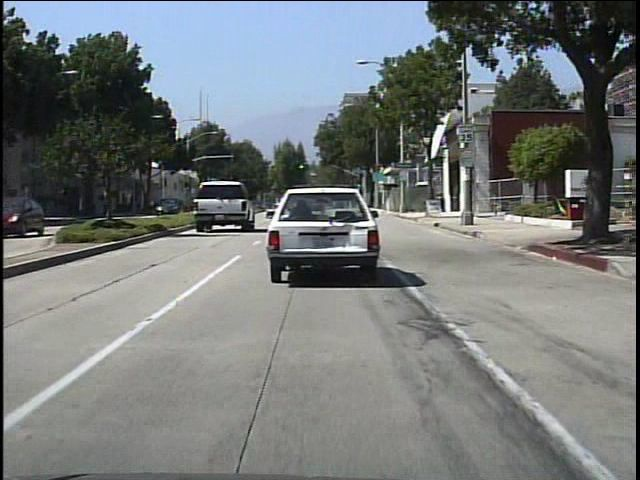person: (104, 194, 113, 220), (150, 196, 158, 216)
